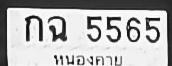5: (105, 15, 120, 42), (86, 15, 101, 41), (144, 16, 159, 42)
6: (125, 16, 139, 42)
A01: (24, 14, 42, 41)
A09: (47, 15, 66, 41)
NKI: (49, 49, 125, 66)
